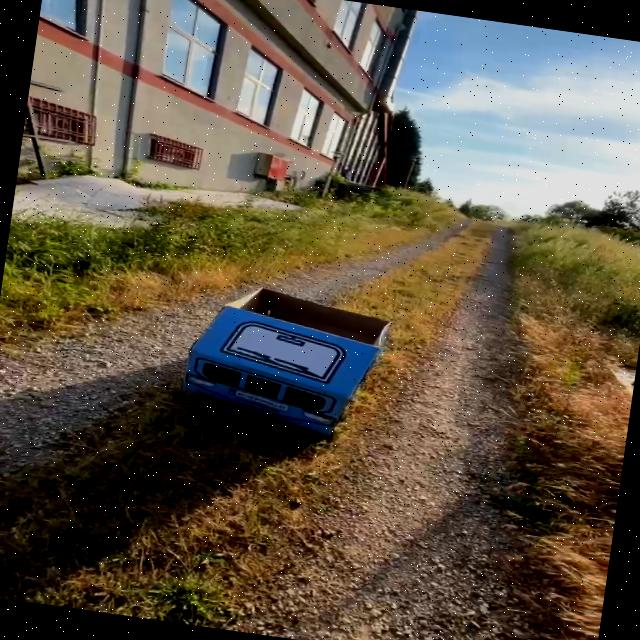blue_car: (123, 246, 457, 479)
